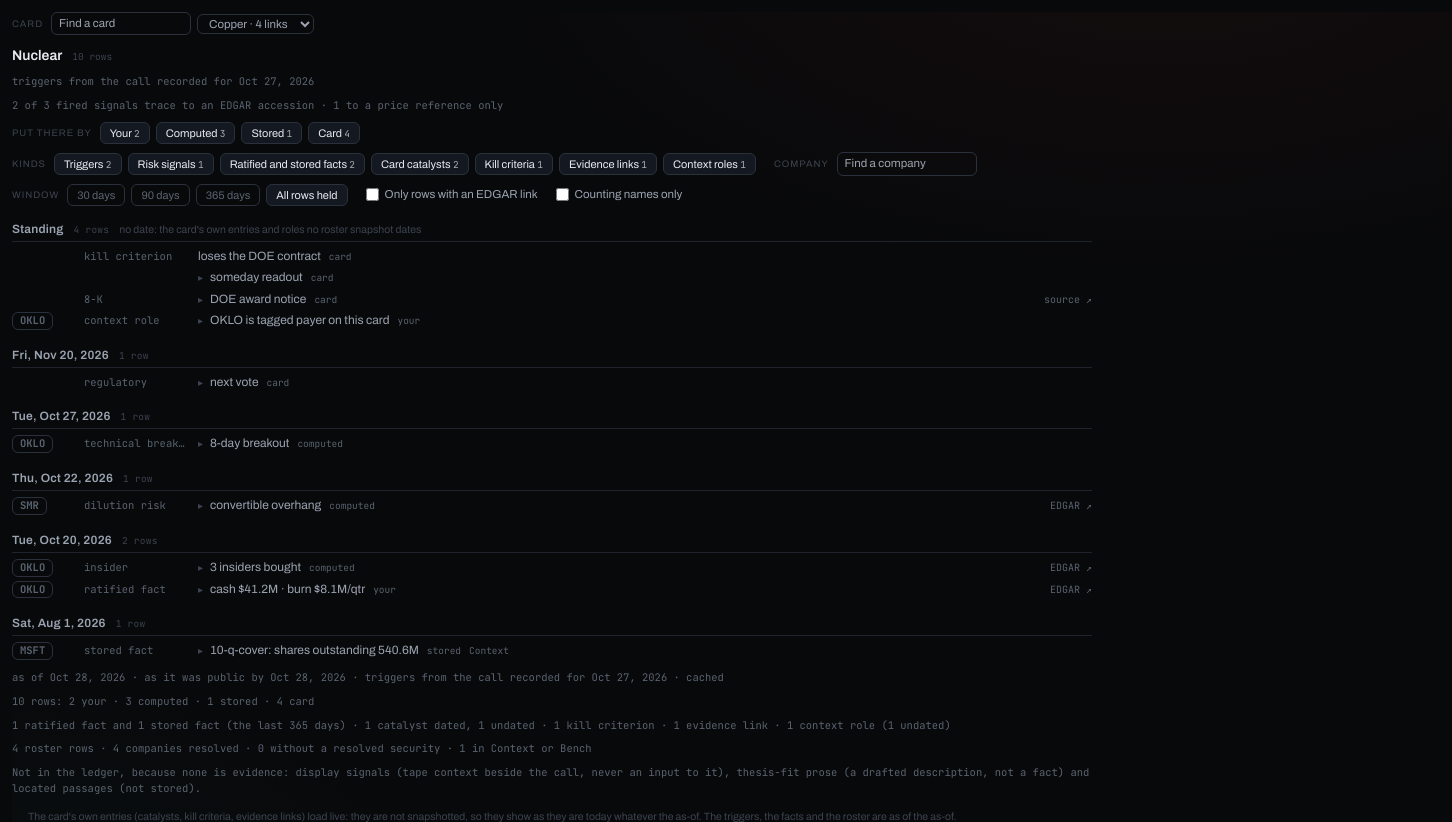
Test: EvidenceLedger › opens an operator row to who and when, and a role to its approved description and the day it lacks
The image size is (1452, 822).
Click the button "▸ cash $41.2M · burn $8.1M/qtr" at [282, 589], box [198,581,365,598]
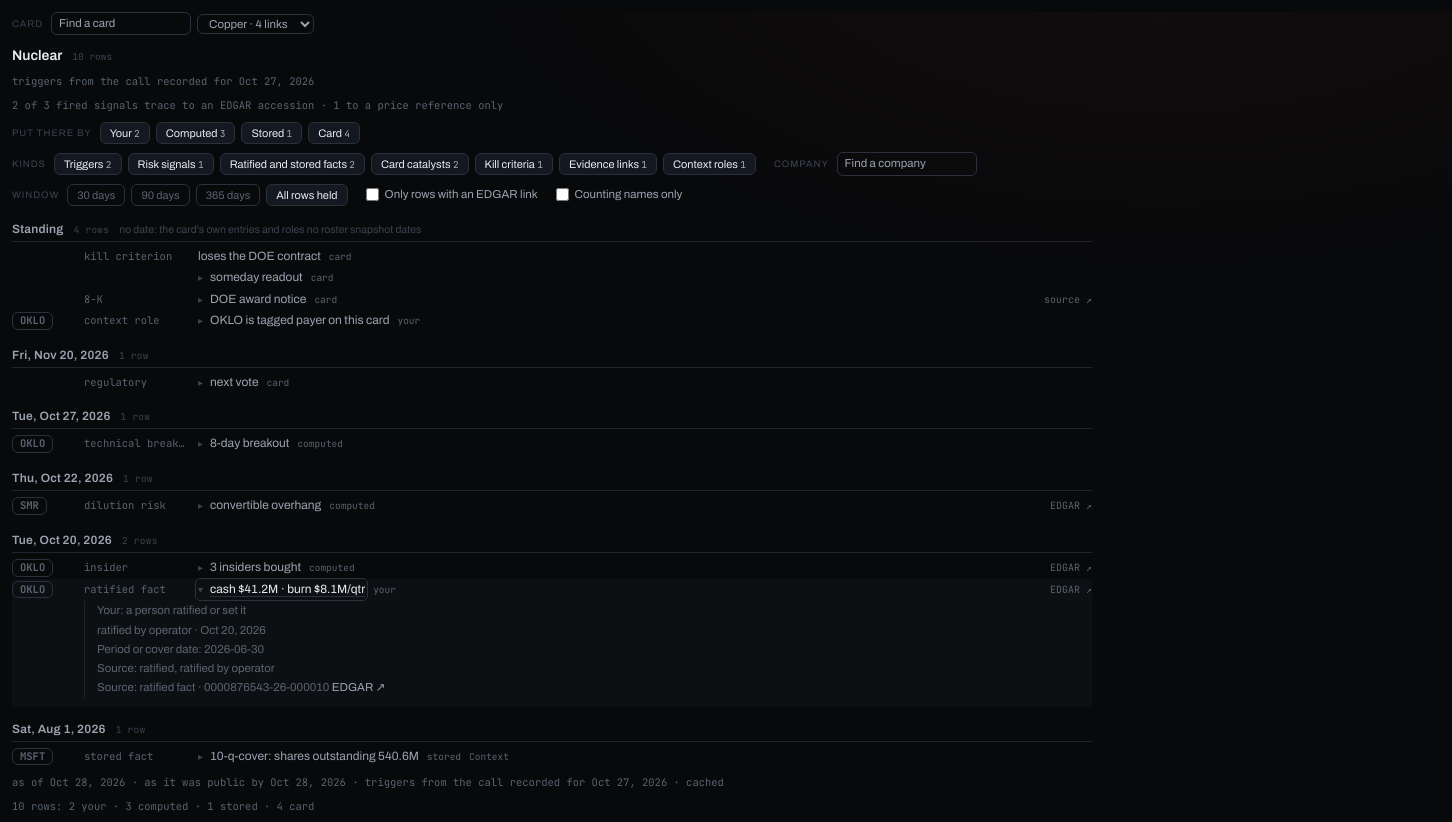
Check: the list item "ratified by operator · Oct 20, 2026" is shown, box [97,624,266,636]
Click the button "▸ OKLO is tagged payer on this card" at [294, 321], box [198,312,390,330]
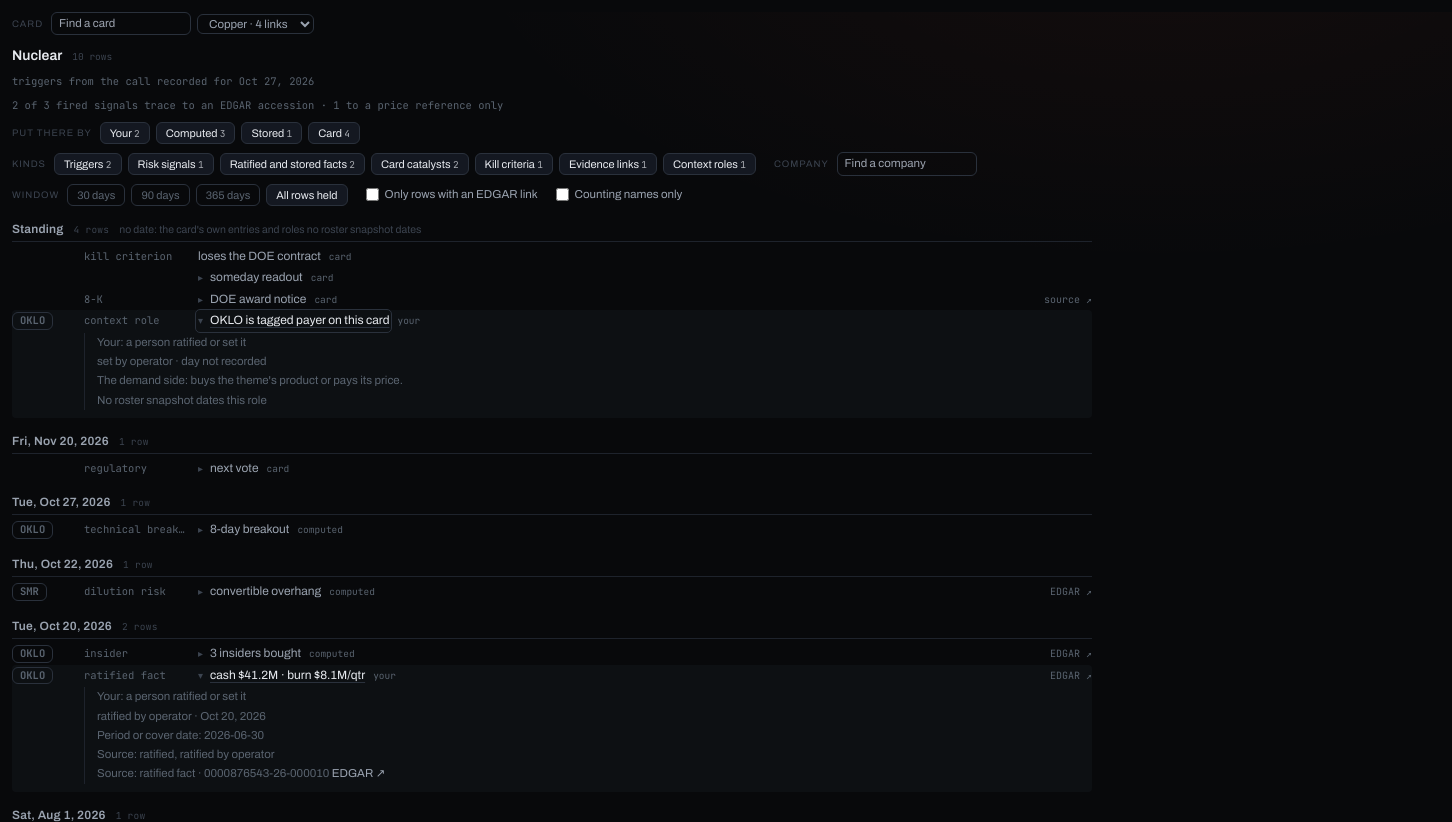
Check: the list item "set by operator · day not recorded" is shown, box [97,355,267,367]
Check: the list item "The demand side: buys the theme's product or pays its price." is shown, box [97,374,403,386]
Check: the list item "No roster snapshot dates this role" is shown, box [97,394,267,406]
